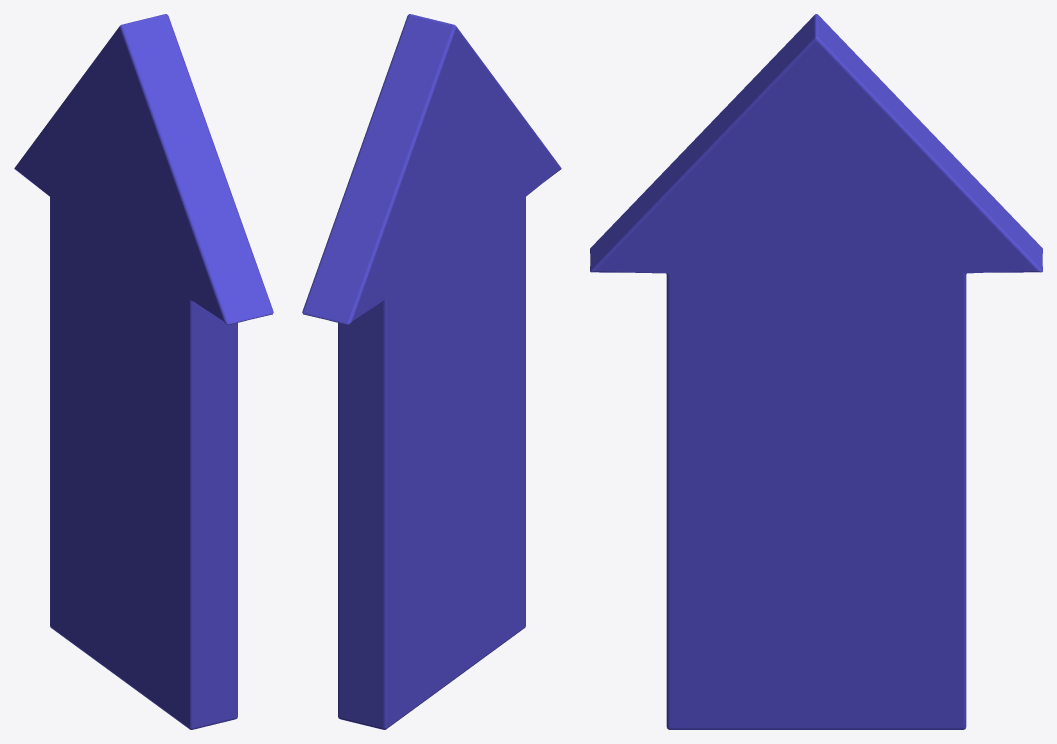
The model's file is arrowmodel.fbx.
The picture shows the model from 3 angles, left to right: view 1: azimuth 30°, elevation 25°; view 2: azimuth 150°, elevation 25°; view 3: azimuth 270°, elevation 25°; orthographic projection. The views are drawn at different scales.
Visible parts, largest first — view 1: Cube; view 2: Cube; view 3: Cube.
Boxes of the visible parts, x1,y1,x2,y2 form: Cube: (14,14,273,729); Cube: (302,14,561,729); Cube: (590,14,1042,729).
Size of the model in its own units: 39.75 by 511 by 303.
